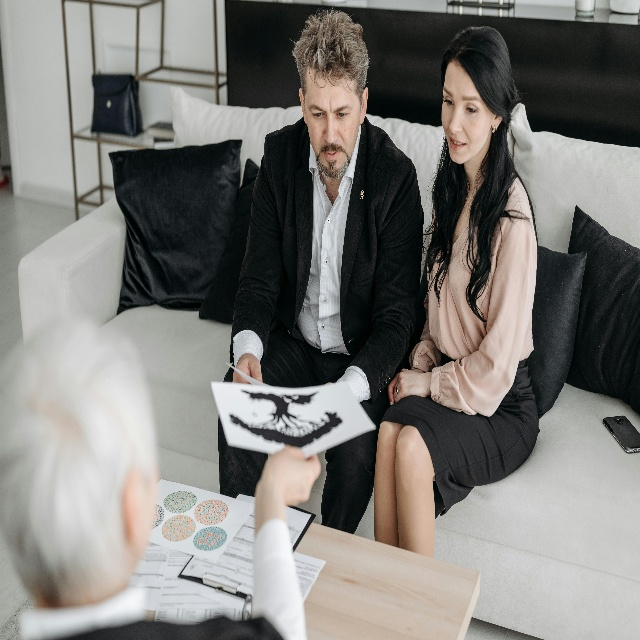Sin_guantes: (255, 446, 322, 511), (388, 367, 428, 409), (233, 356, 264, 387)
